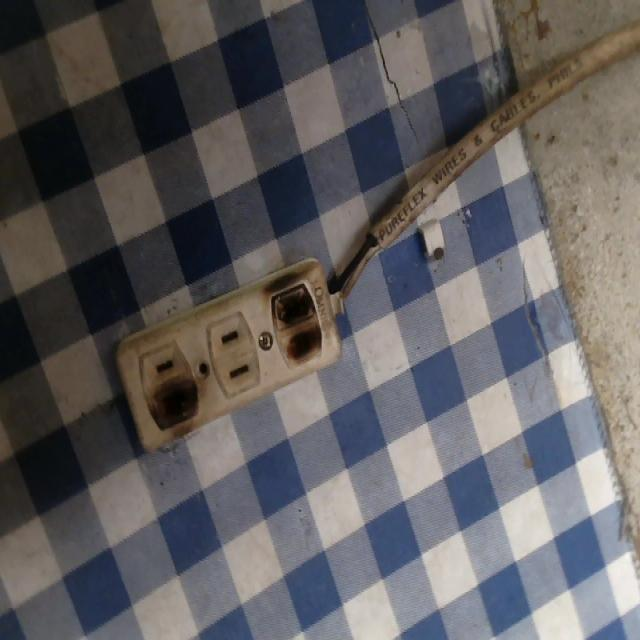-: (266, 272, 330, 365), (151, 372, 201, 428)
